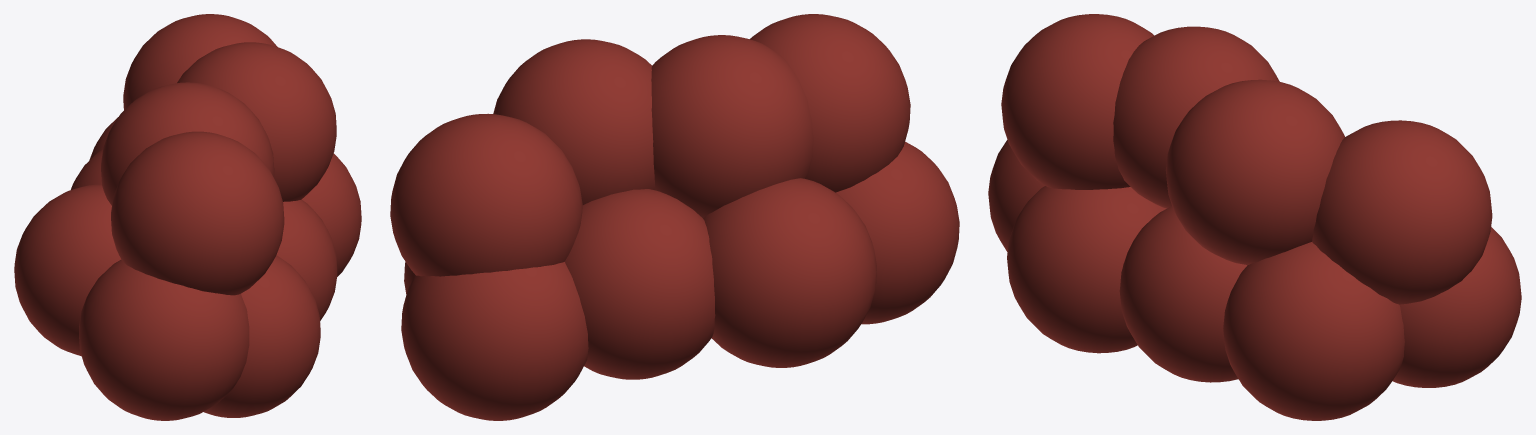
The model's file is staphylococci.glb.
3 renders of one model, left to right at view 1: azimuth 30°, elevation 25°; view 2: azimuth 150°, elevation 25°; view 3: azimuth 270°, elevation 25°, orthographic. The views are drawn at different scales.
Visible parts, largest first — view 1: Sphere.005, Sphere.006, Sphere.002, Sphere.009, Sphere.008, Sphere.003, Sphere.004, Sphere.043, Sphere.001, Sphere.011; view 2: Sphere.009, Sphere.004, Sphere.012, Sphere.003, Sphere.011, Sphere.002, Sphere.005, Sphere.006; view 3: Sphere.004, Sphere.002, Sphere.001, Sphere.005, Sphere.008, Sphere.043, Sphere.003, Sphere.012, Sphere.006.
Part boxes in pixels (x1=…): Sphere.005: x1=111, y1=131, x2=284, y2=295; Sphere.006: x1=79, y1=259, x2=249, y2=420; Sphere.002: x1=177, y1=42, x2=336, y2=201; Sphere.009: x1=14, y1=184, x2=121, y2=356; Sphere.008: x1=204, y1=255, x2=320, y2=417; Sphere.003: x1=101, y1=82, x2=274, y2=205; Sphere.004: x1=123, y1=14, x2=277, y2=110; Sphere.043: x1=276, y1=199, x2=337, y2=321; Sphere.001: x1=302, y1=153, x2=361, y2=276; Sphere.011: x1=71, y1=149, x2=102, y2=189; Sphere.009: x1=703, y1=178, x2=876, y2=367; Sphere.004: x1=390, y1=113, x2=582, y2=276; Sphere.012: x1=401, y1=262, x2=588, y2=420; Sphere.003: x1=651, y1=35, x2=813, y2=217; Sphere.011: x1=564, y1=189, x2=715, y2=379; Sphere.002: x1=493, y1=39, x2=655, y2=204; Sphere.005: x1=750, y1=14, x2=910, y2=192; Sphere.006: x1=836, y1=141, x2=959, y2=324; Sphere.004: x1=1312, y1=120, x2=1492, y2=304; Sphere.002: x1=1165, y1=79, x2=1344, y2=264; Sphere.001: x1=1223, y1=242, x2=1404, y2=420; Sphere.005: x1=1001, y1=14, x2=1154, y2=189; Sphere.008: x1=1007, y1=186, x2=1166, y2=353; Sphere.043: x1=1119, y1=206, x2=1247, y2=382; Sphere.003: x1=1113, y1=26, x2=1279, y2=208; Sphere.012: x1=1392, y1=227, x2=1521, y2=387; Sphere.006: x1=988, y1=140, x2=1044, y2=252.
Size of the model in its own units: 3.65 by 2.71 by 4.25.
